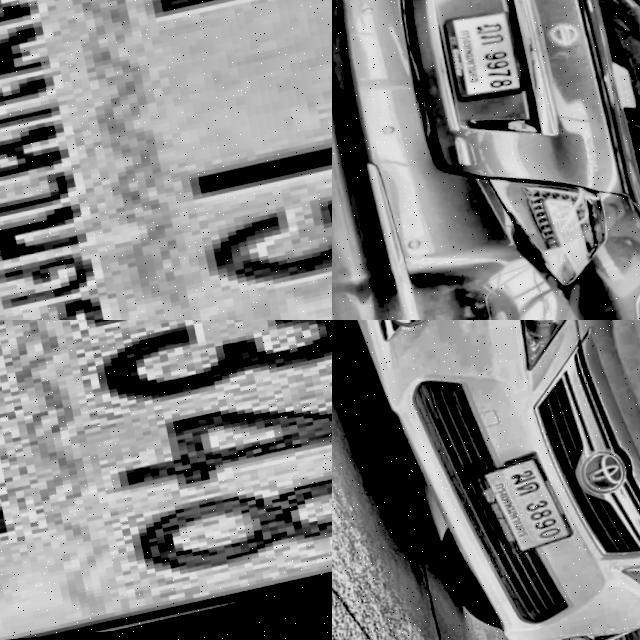license-plate: (0, 0, 332, 320), (0, 320, 332, 640), (459, 457, 571, 567), (428, 3, 531, 113)
